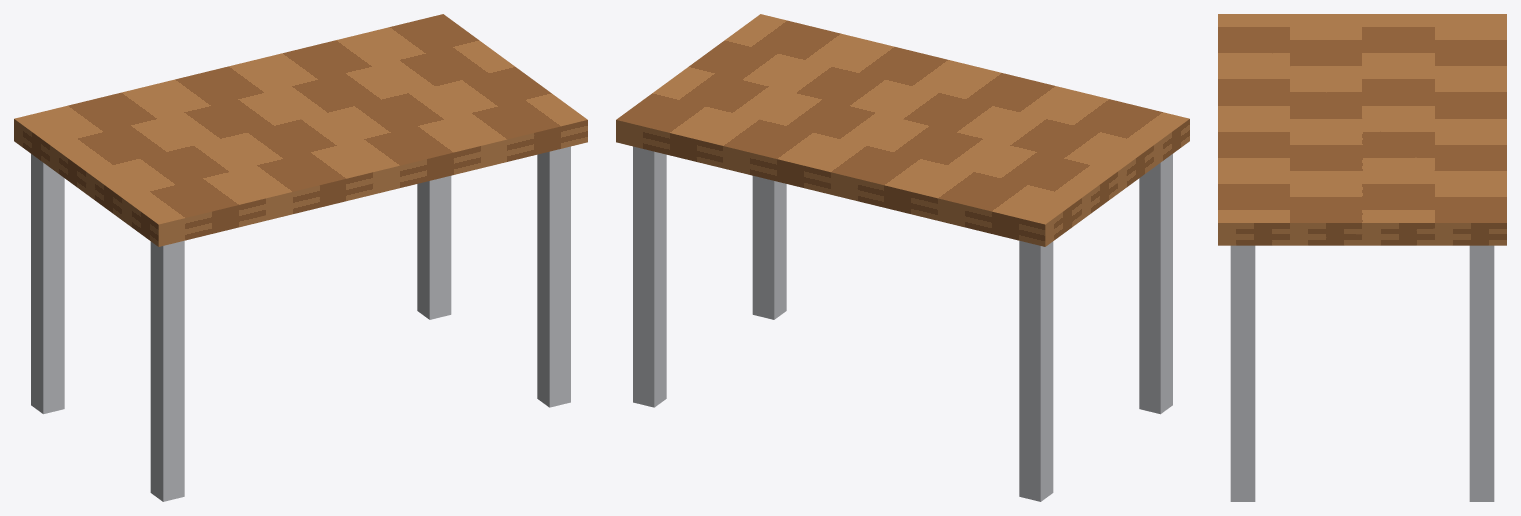
Rendered from table.gltf.
3 views of the same model, side by side, from view 1: azimuth 30°, elevation 25°; view 2: azimuth 150°, elevation 25°; view 3: azimuth 270°, elevation 25° (orthographic).
Visible parts, largest first — view 1: Top, Leg front left, Leg front right, Leg back left, Leg back right; view 2: Top, Leg back left, Leg back right, Leg front left, Leg front right; view 3: Top, Leg front right, Leg back right.
Boxes of the visible parts, x1,y1,x2,y2 form: Top: [14, 14, 587, 246]; Leg front left: [150, 240, 184, 501]; Leg front right: [537, 146, 570, 407]; Leg back left: [31, 154, 64, 414]; Leg back right: [417, 176, 451, 319]; Top: [616, 14, 1189, 246]; Leg back left: [1019, 240, 1053, 501]; Leg back right: [633, 146, 666, 407]; Leg front left: [1139, 154, 1172, 414]; Leg front right: [752, 176, 786, 319]; Top: [1218, 14, 1506, 245]; Leg front right: [1230, 245, 1255, 501]; Leg back right: [1469, 245, 1494, 501].
Size of the model in its own units: 1.2 by 0.76 by 0.7.
Materials: 2 (1 with a texture image).
